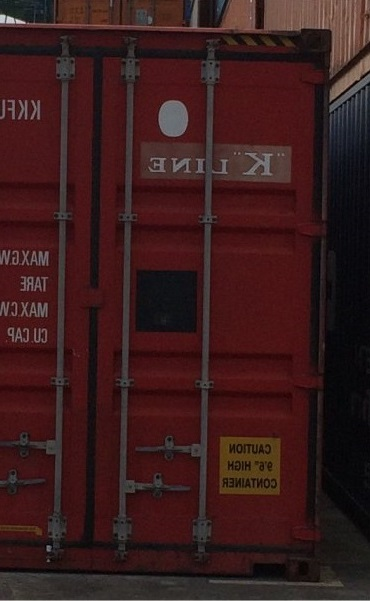container_door: (1, 25, 335, 574)
